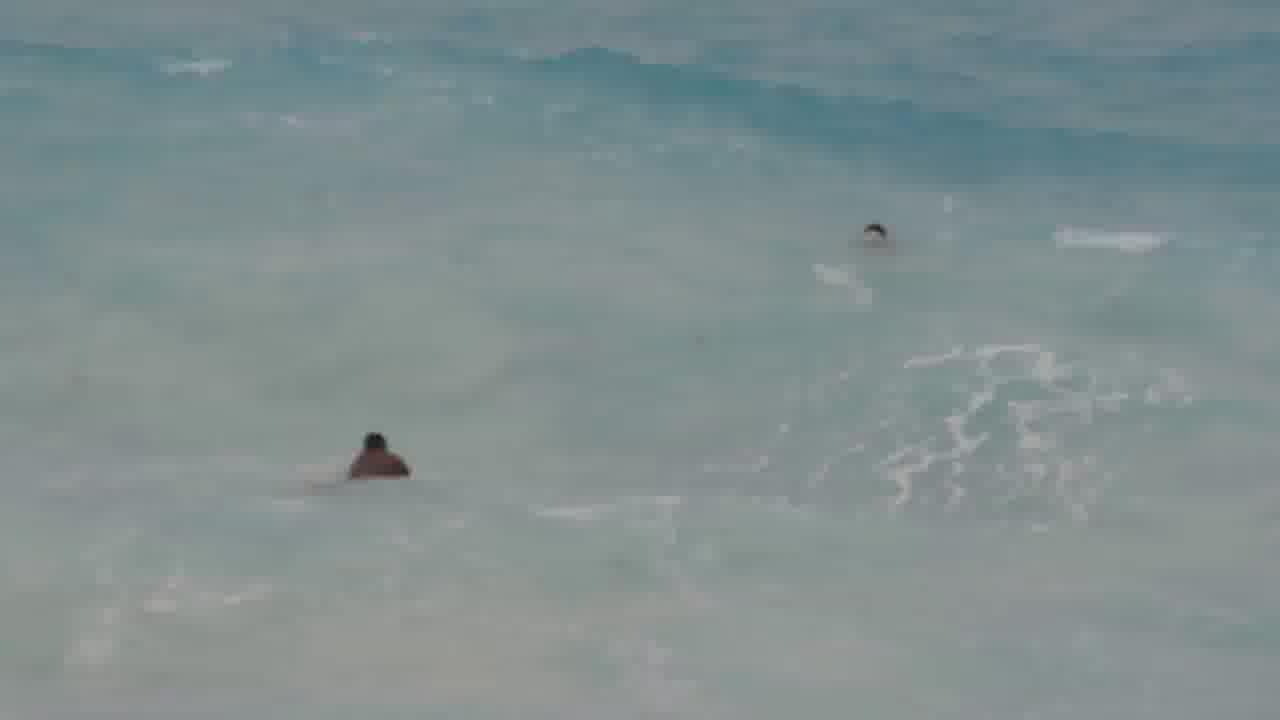swimmer: (352, 419, 414, 483), (856, 217, 905, 248)
